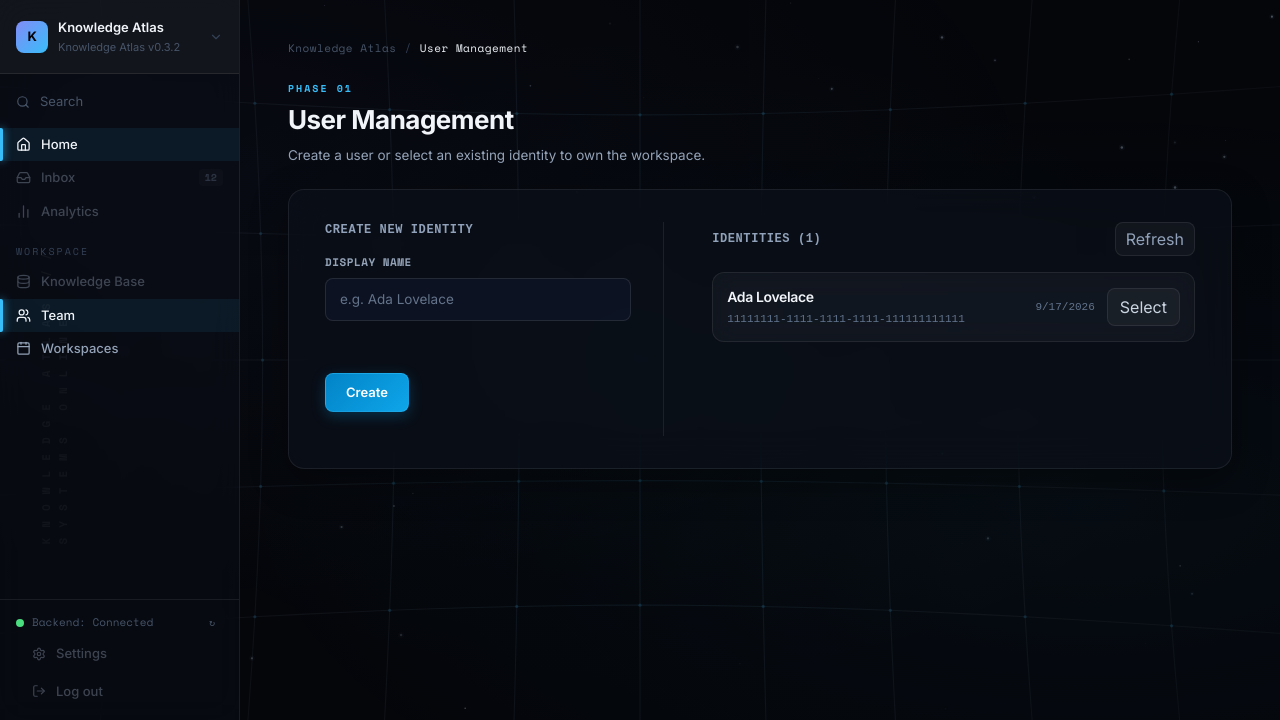
Scenario: HomePage Health State UI (§16, §25, §27) › requires a selected user before progressing to workspace management
The image size is (1280, 720).
// Select a user — continue button now appears
Step 1. Click the button "Select" → point(1143, 307), box [1107,288,1180,326]
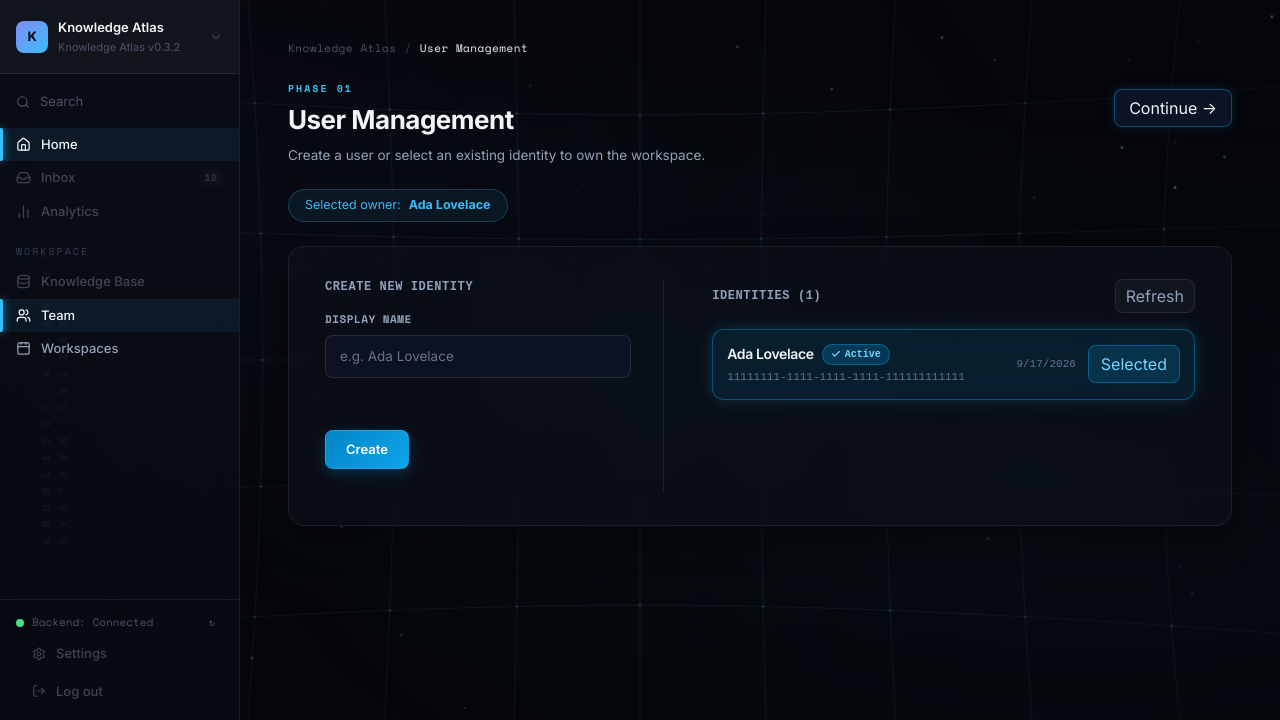
Check: the button with test id "continue-to-workspaces" is shown
Step 2. Click the button with test id "continue-to-workspaces" → point(1173, 108), box [1114,88,1232,126]
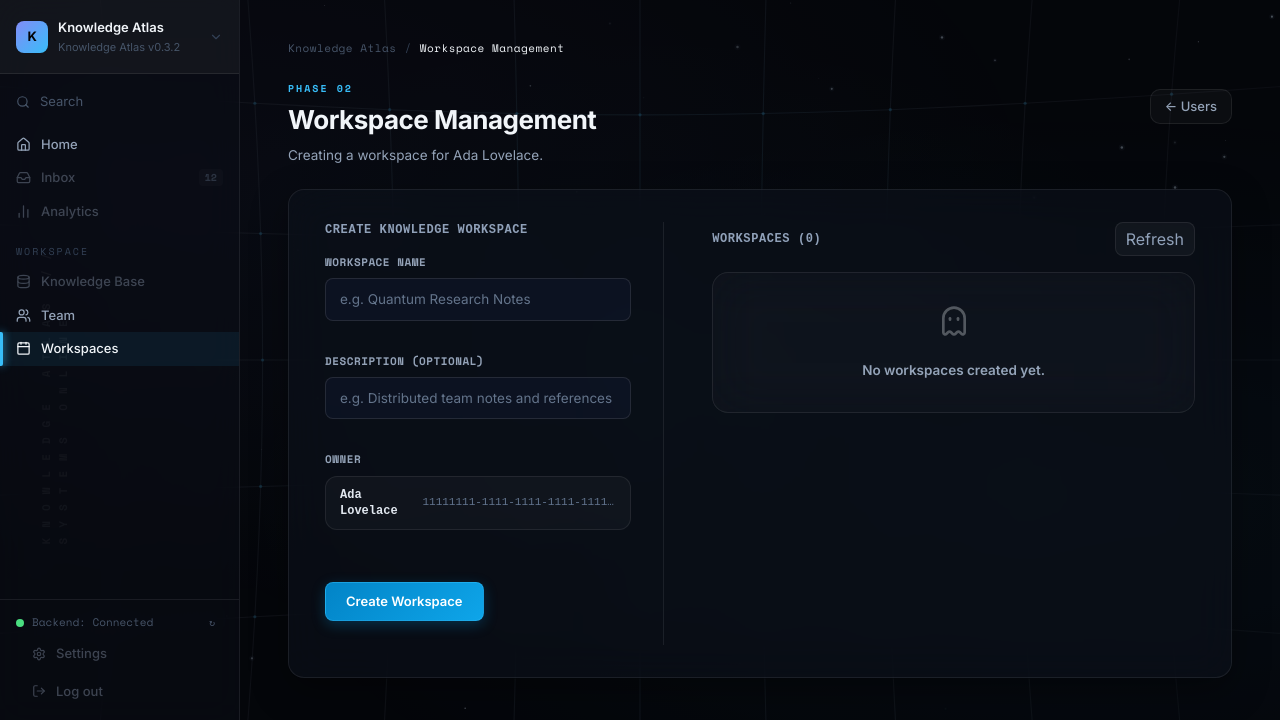
Check: the heading "Workspace Management" is shown, box [288,100,596,138]
Check: the element with test id "selected-workspace-owner" shows "Ada Lovelace", box [340,488,398,518]
